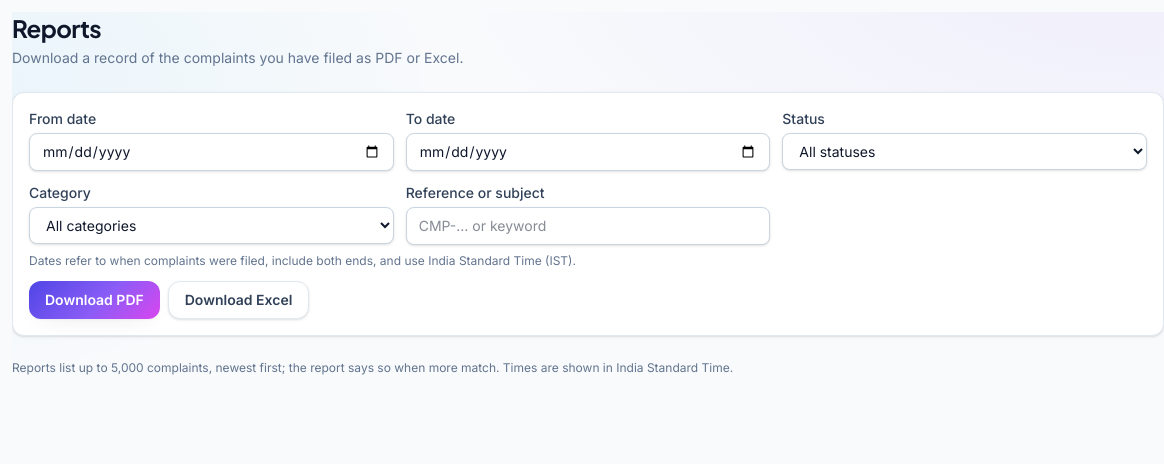
Test: downloads a PDF with the chosen filters
Check: the heading "Reports" is shown, box [12,13,101,43]
Type "2026-10-01" into the date field labelled "From date". click: (211, 152)
box: [29,133,394,171]
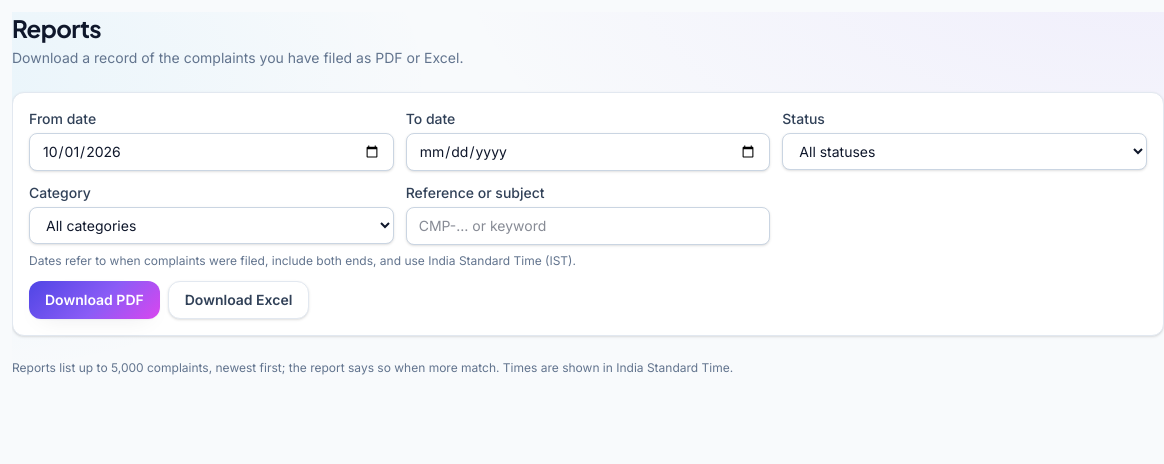
Select "Resolved" in the dropdown labelled "Status". click: (965, 152)
box: [782,133,1147,170]
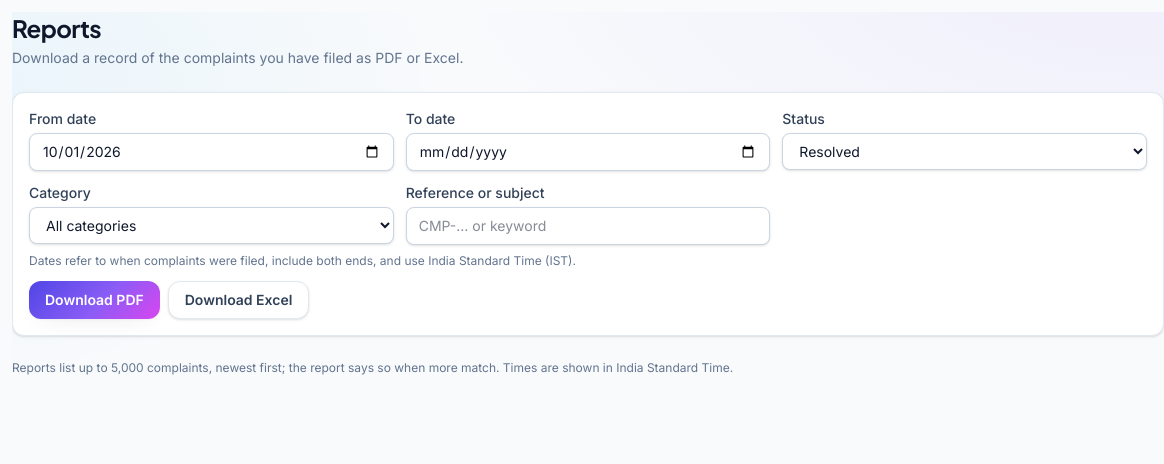
Click the button "Download PDF". click: (94, 300)
box: [29,281,160,319]
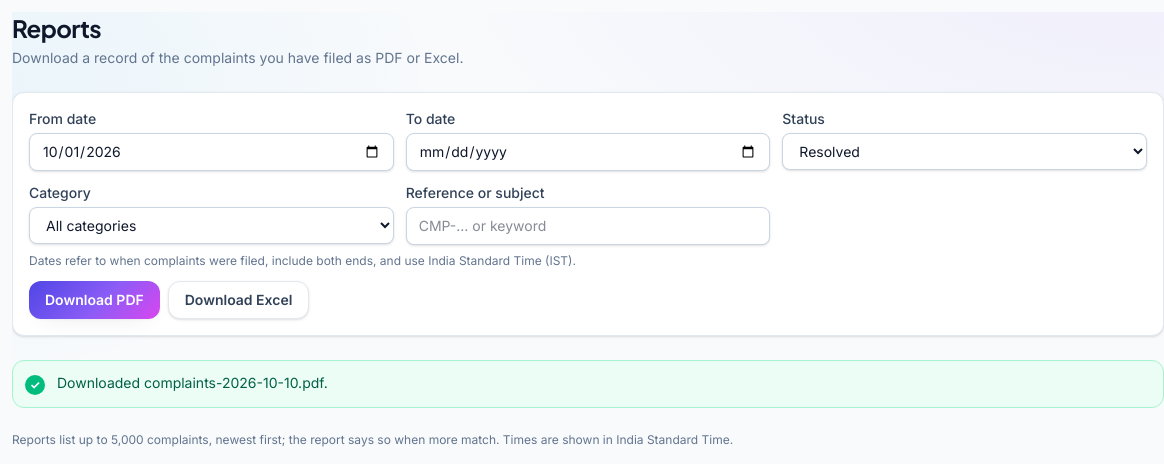
Check: the text "Downloaded complaints-2026-10-10.pdf." is shown, box [57,374,328,391]
